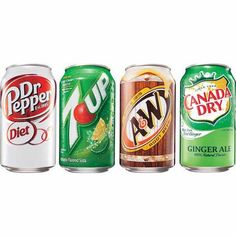Lata: (177, 63, 235, 174)
